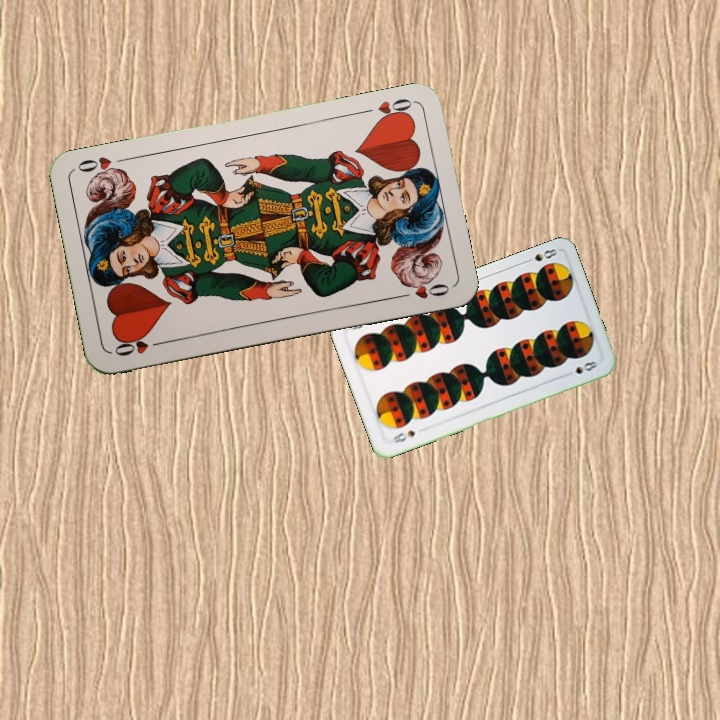HO: (358, 94, 416, 125), (110, 332, 168, 359)
S8: (520, 244, 560, 266), (389, 426, 418, 446)
